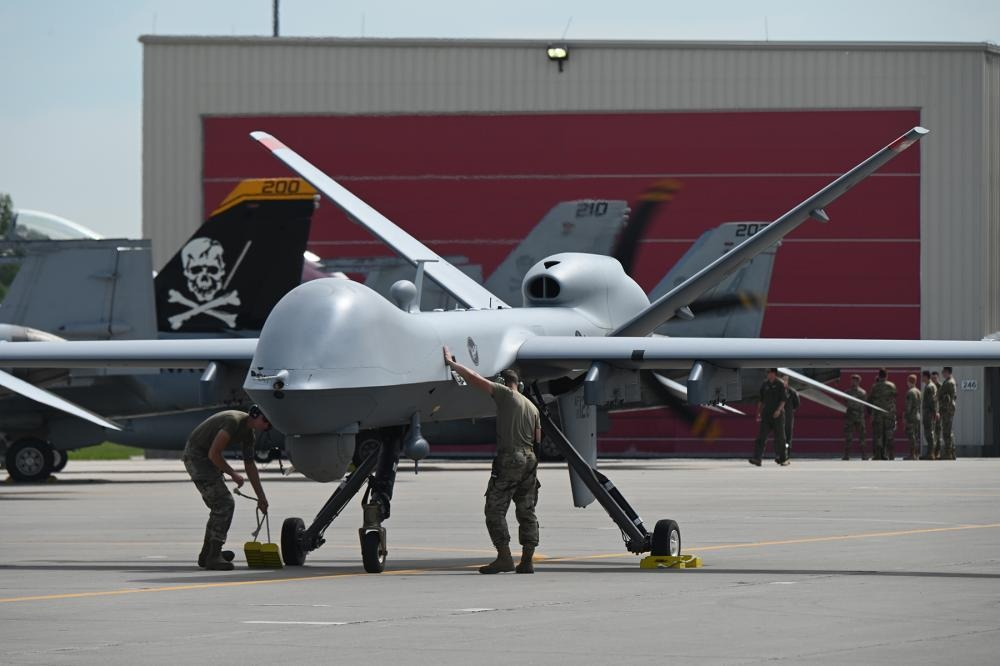aircraft: (0, 123, 995, 567)
